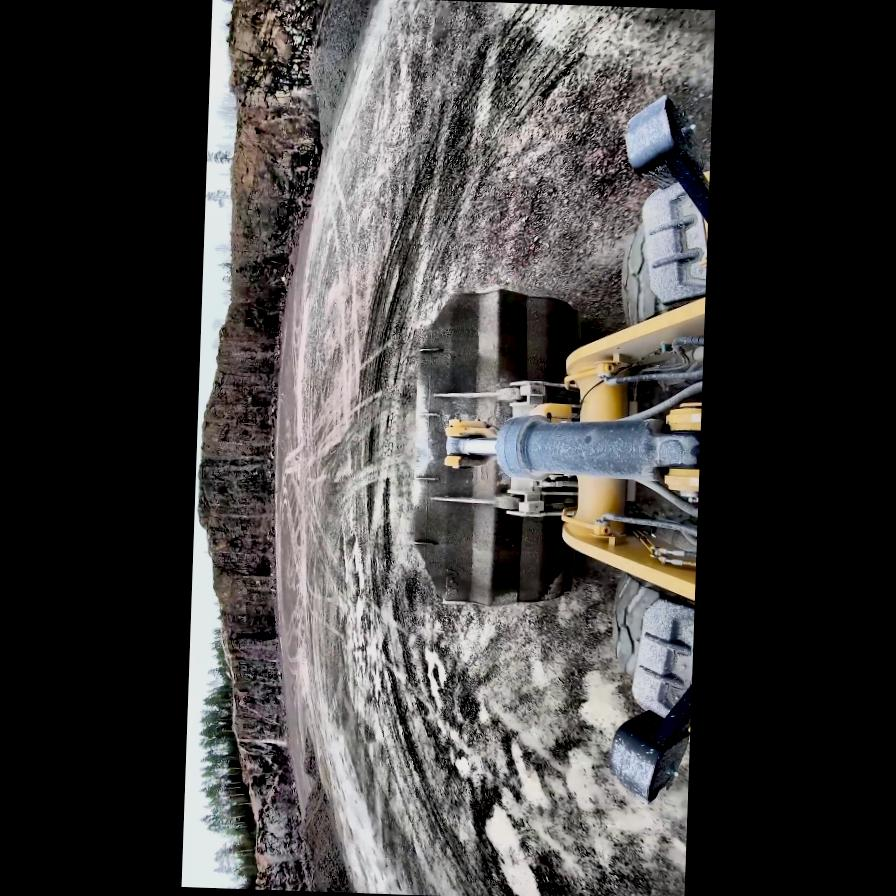anchor: (443, 420, 500, 470)
pile of gravel: (302, 0, 375, 157), (296, 737, 366, 893)
